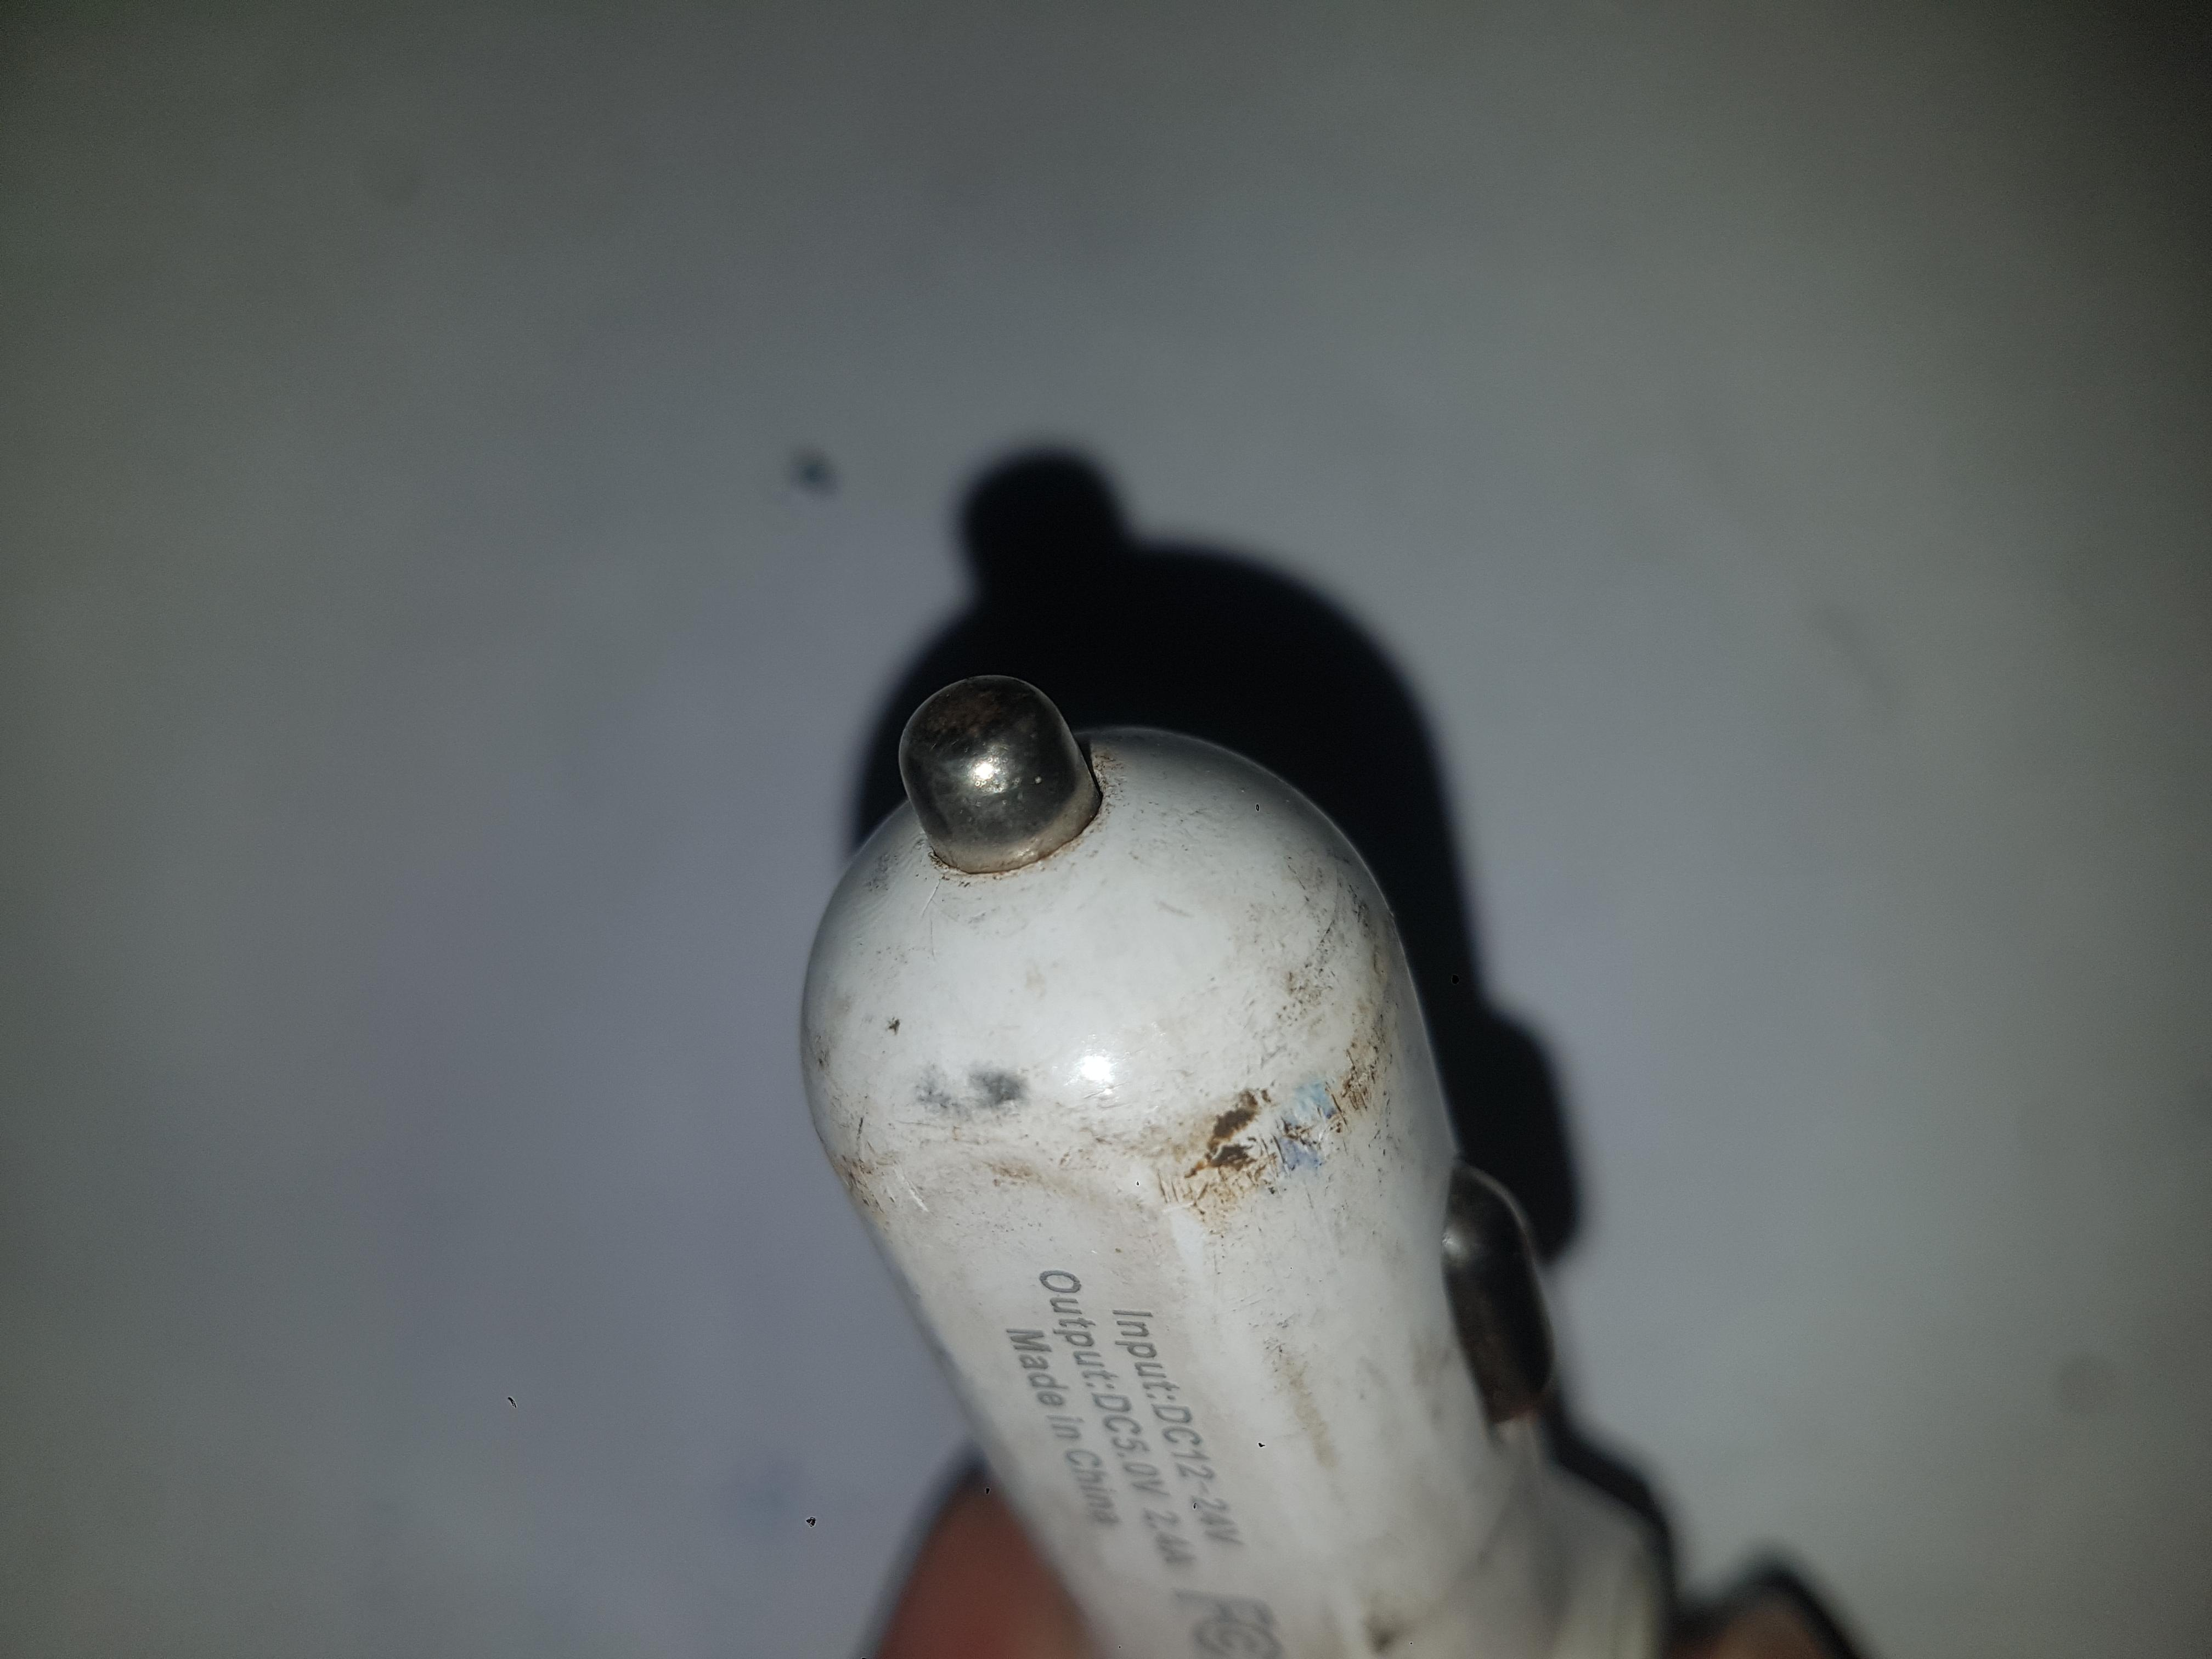electronic: (526, 0, 1424, 1021)
